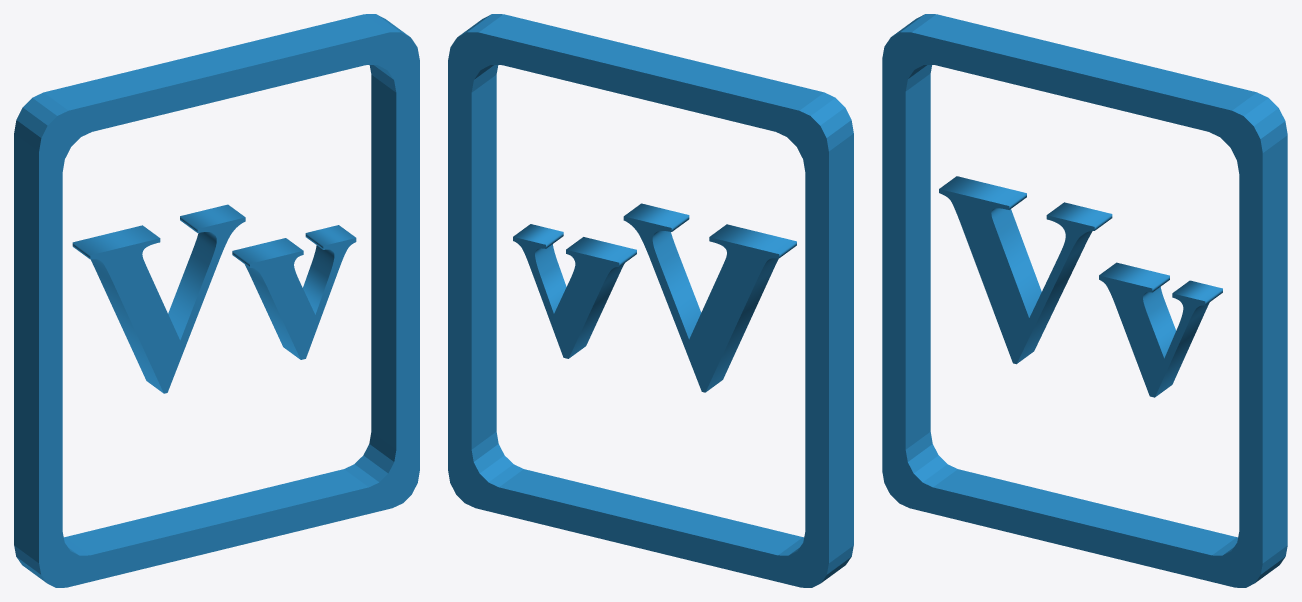
File: Letter_V.gltf
The picture shows the model from 3 angles, left to right: view 1: azimuth 30°, elevation 25°; view 2: azimuth 150°, elevation 25°; view 3: azimuth 330°, elevation 25°; orthographic projection.
Parts seen in each view (by area): view 1: Letters.023; view 2: Letters.023; view 3: Letters.023.
Part boxes in pixels (<box>): Letters.023: <box>14,14,419,587</box>; Letters.023: <box>448,14,853,587</box>; Letters.023: <box>882,14,1287,587</box>.
Bounding box in the file's own units: 1.25 × 1.49 × 0.1418.
